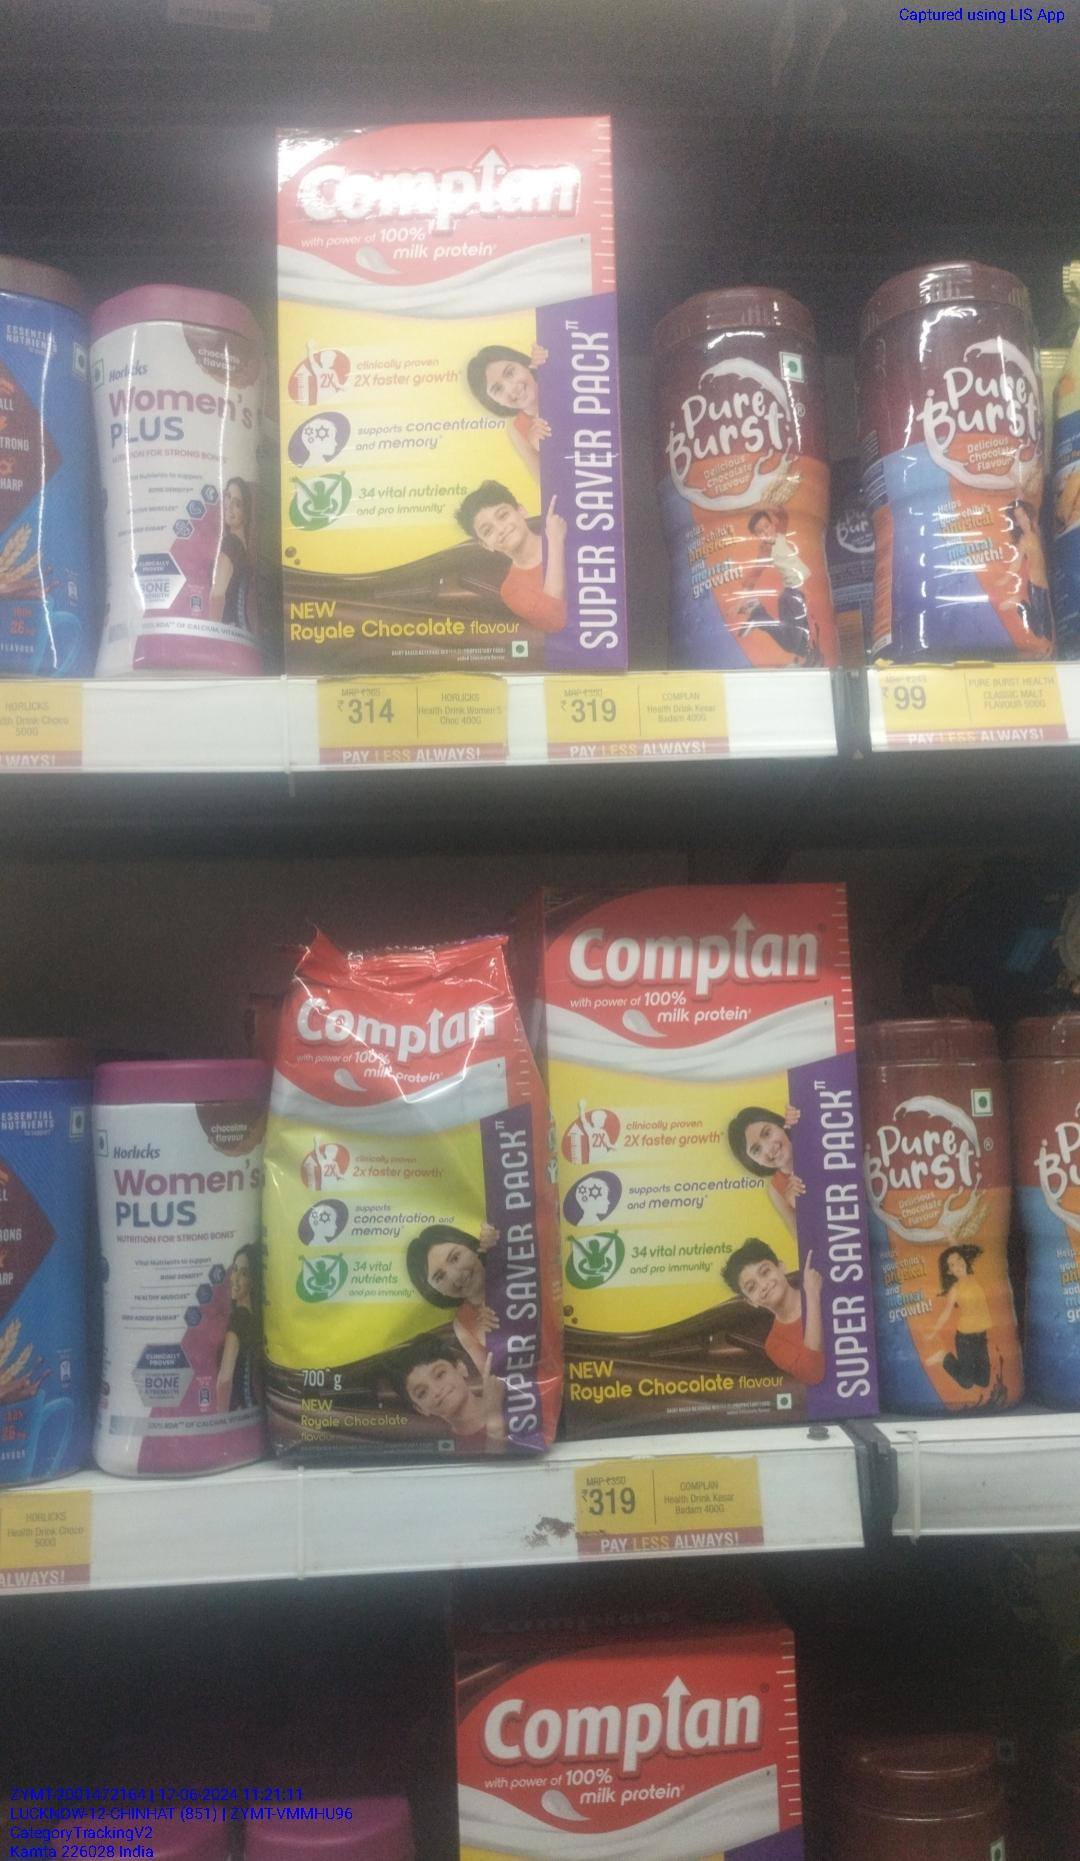COMPLAN_CHOCOLATE_1_KG_PACK: (285, 117, 618, 668), (566, 889, 869, 1432)
COMPLAN_RC_POUCH_700_GMS_12: (253, 927, 543, 1457)
